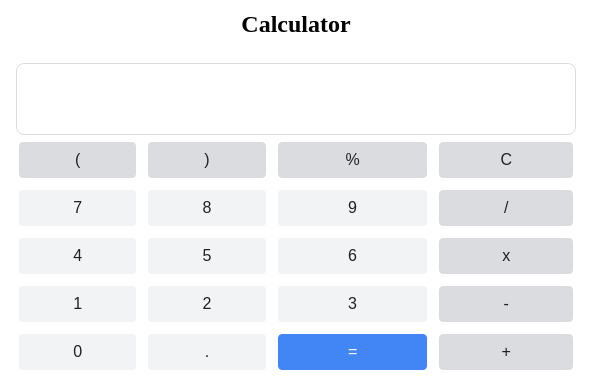
Test: Calculator component › displays an error message for invalid expressions
Click the text with test id "1".
click(78, 304)  # box [19,286,136,322]
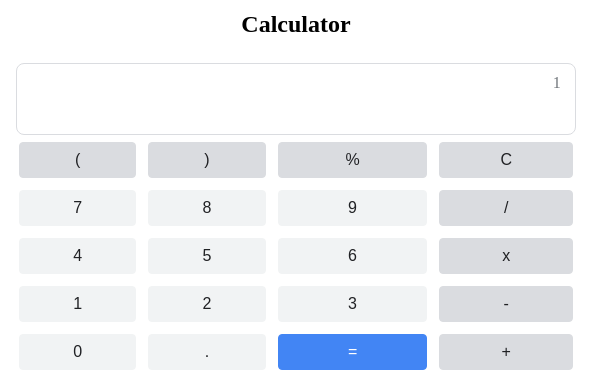
Expected: the text with test id "answerTop" is shown, [553,74,561,91]
Click the text with test id ".".
click(207, 352)  # box [148,334,266,370]
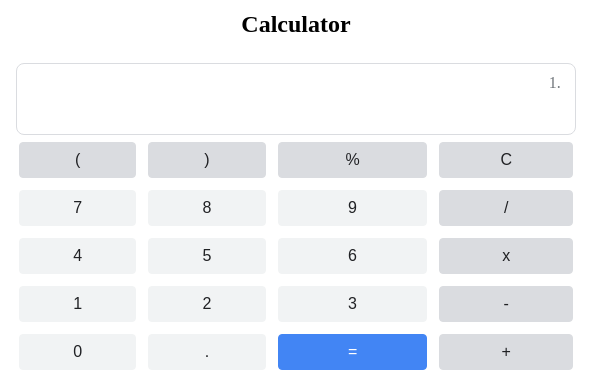
Expected: the text "1." is shown, [549,74,561,91]
Click the text with test id "=".
click(353, 352)  # box [278,334,428,370]
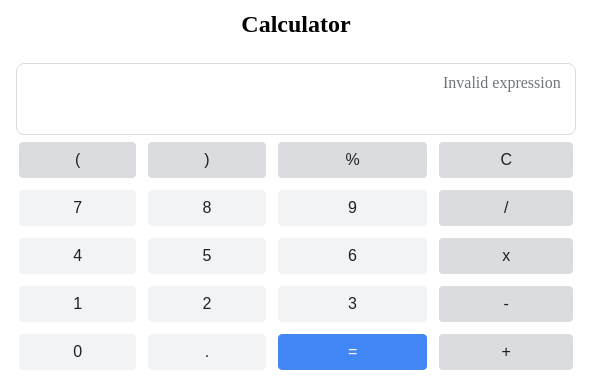
Result: the text with test id "answerTop" reads "Invalid expression" at [443,74,561,91]
